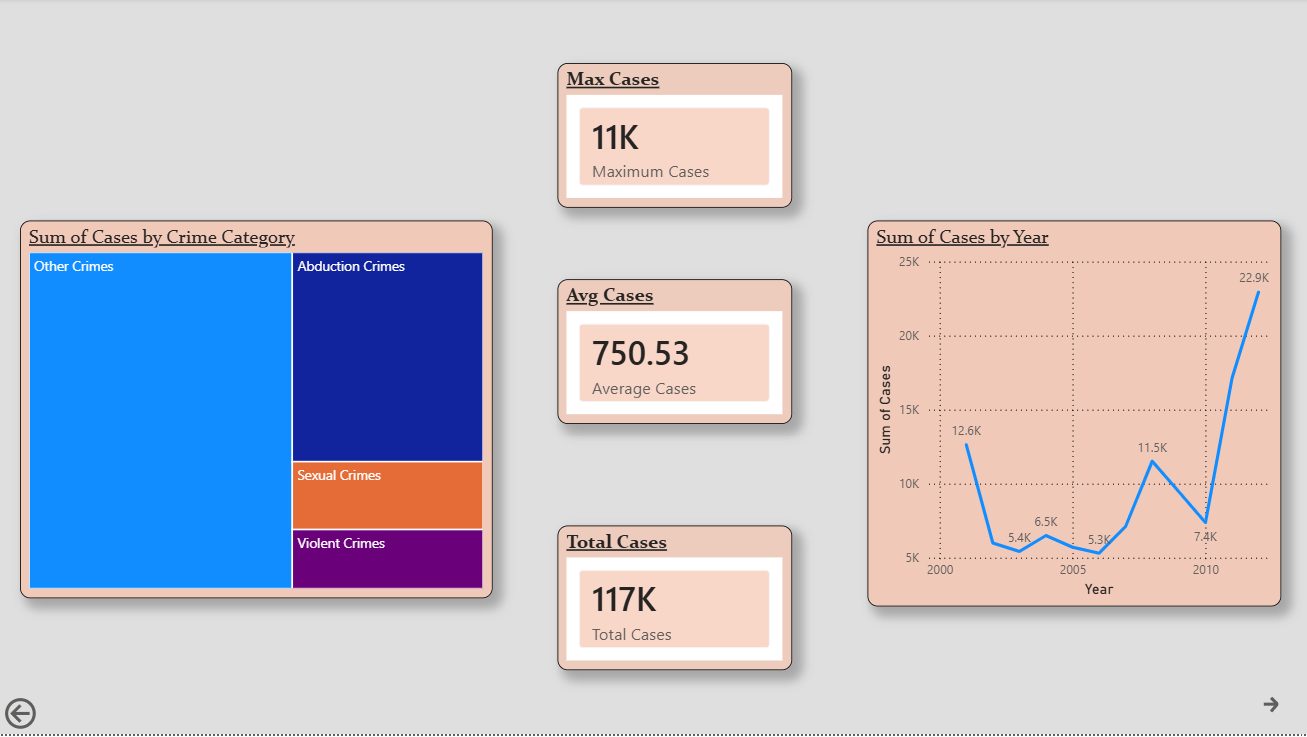

The dashboard page shown, as its layout file describes it:
{"tool":"powerbi","page":{"name":"State Analysis","canvas":[1280,720],"ordinal":1},"visuals":[{"type":"lineChart","fields":{"Category":["in.Year"],"Y":["Sum(in.Cases)"]},"box":[848.6,217.7,404.8,377.9],"z":0},{"type":"treemap","fields":{"Group":["in.Crime Category"],"Values":["Sum(in.Cases)"]},"box":[19.6,217.7,462.2,369.3],"z":1000},{"type":"cardVisual","title":"Total Cases","fields":{"Data":["in.Total Cases"]},"box":[545.4,516,229.9,141.8],"z":2000},{"type":"cardVisual","title":"Max Cases","fields":{"Data":["in.Maximum Cases"]},"box":[545.4,63.6,229.9,141.8],"z":3000},{"type":"cardVisual","title":"Avg Cases","fields":{"Data":["in.Average Cases"]},"box":[545.4,275.1,229.9,141.8],"z":4000},{"type":"actionButton","box":[0,680,100,40],"z":5000},{"type":"actionButton","box":[1231.4,670.1,44,40.4],"z":6000}]}

Visuals, with their boxes in screenshot pixels (x1, y1, x2, y2), scaled from the page's 1280x720 canvas onto the 1307x737 screenshot:
lineChart - in.Year x Sum(in.Cases): [x1=867, y1=223, x2=1280, y2=610]
treemap - in.Crime Category x Sum(in.Cases): [x1=20, y1=223, x2=492, y2=601]
"Total Cases" cardVisual: [x1=557, y1=528, x2=792, y2=673]
"Max Cases" cardVisual: [x1=557, y1=65, x2=792, y2=210]
"Avg Cases" cardVisual: [x1=557, y1=282, x2=792, y2=427]
actionButton: [x1=0, y1=696, x2=102, y2=736]
actionButton: [x1=1257, y1=686, x2=1302, y2=727]
